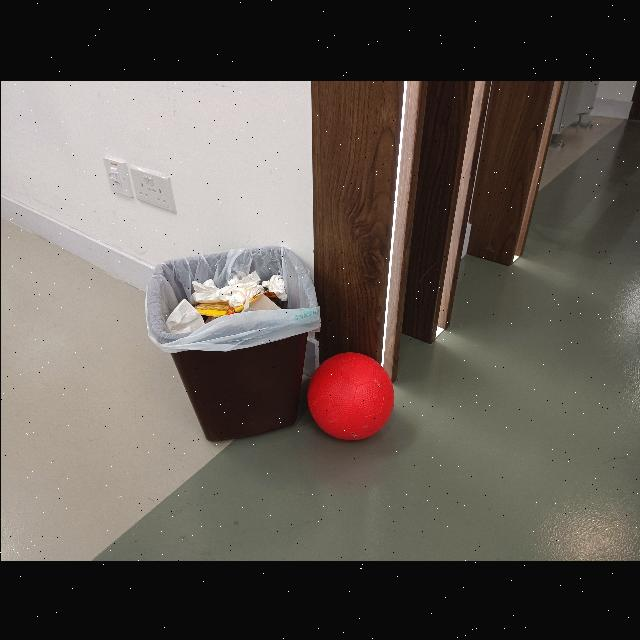R: (306, 350, 394, 438)
